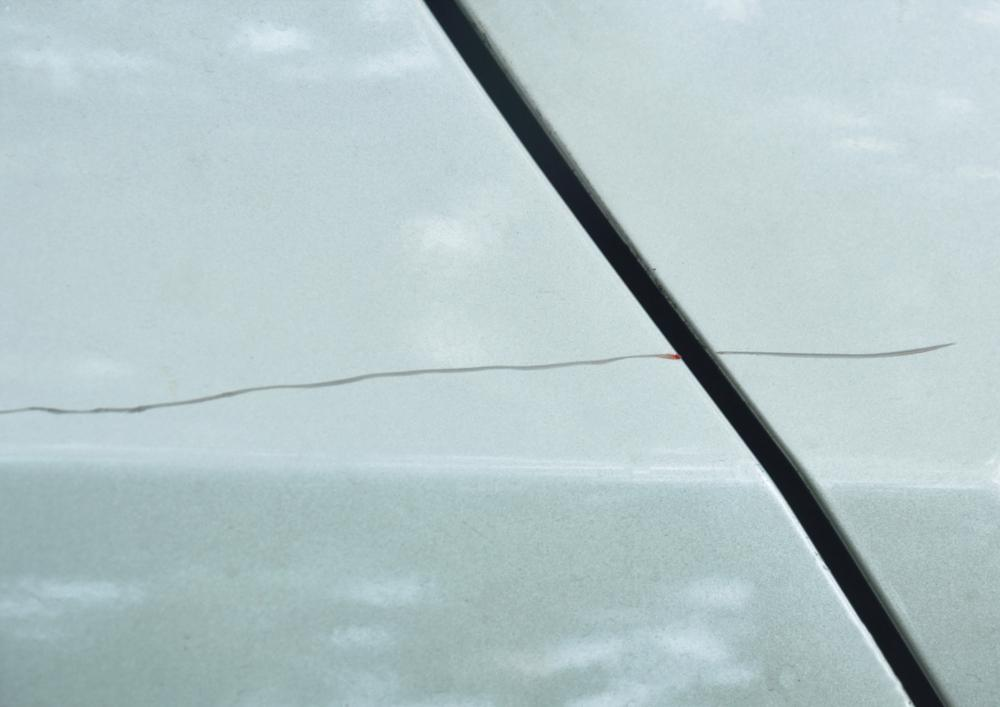scratch: (0, 350, 690, 421), (714, 339, 963, 362)
